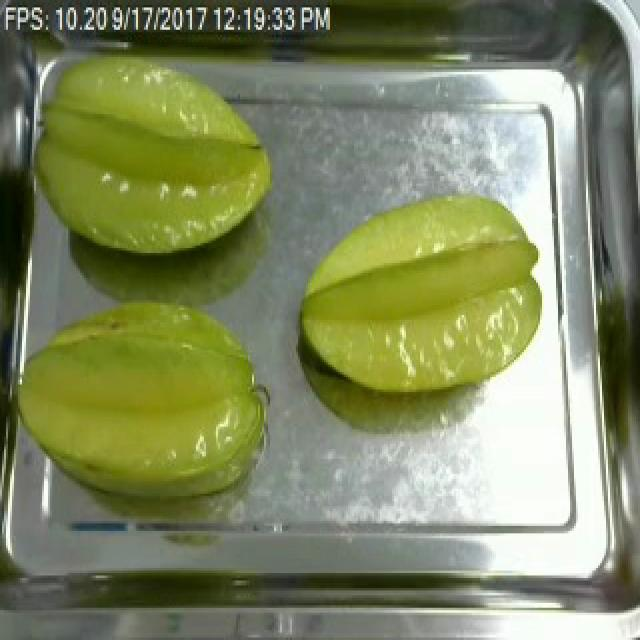fruit: (0, 285, 278, 516), (20, 42, 284, 268), (288, 186, 552, 402)
